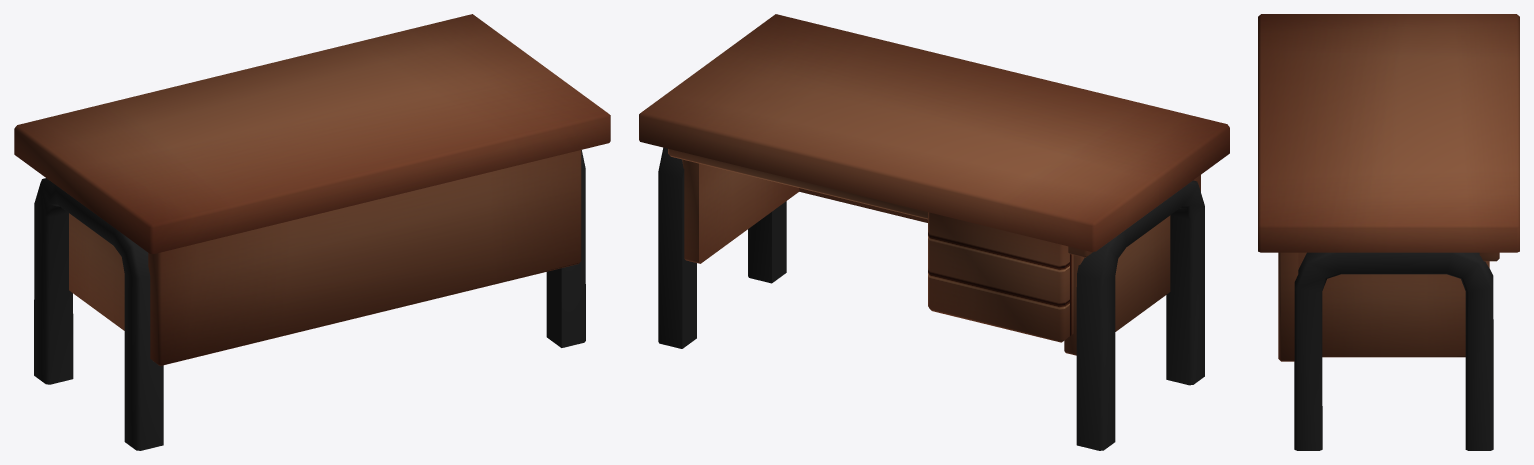
The model's file is TeacherDesk.fbx.
3 views of the same model, side by side, from view 1: azimuth 30°, elevation 25°; view 2: azimuth 150°, elevation 25°; view 3: azimuth 270°, elevation 25° (orthographic). The views are drawn at different scales.
Visible parts, largest first — view 1: TeacherDesk; view 2: TeacherDesk; view 3: TeacherDesk.
Boxes of the visible parts, x1,y1,x2,y2 form: TeacherDesk: (14,14,610,450); TeacherDesk: (639,14,1229,450); TeacherDesk: (1258,14,1519,450).
Size of the model in its own units: 500 by 250 by 260.
